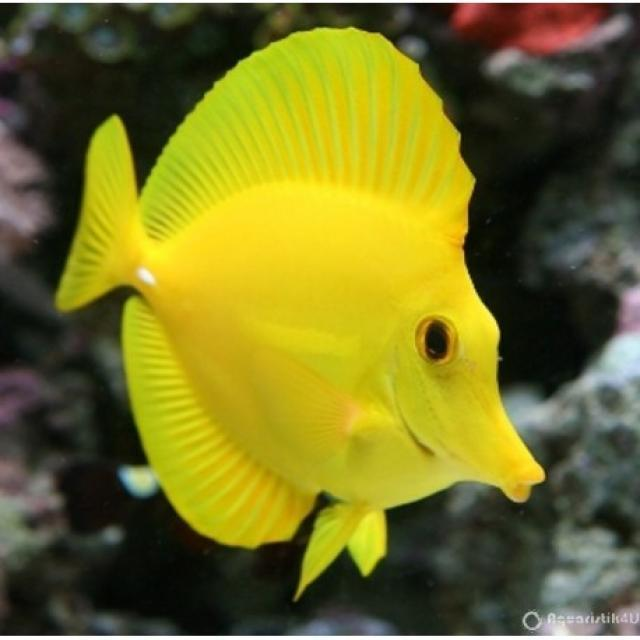TangFish: (55, 22, 548, 595)
